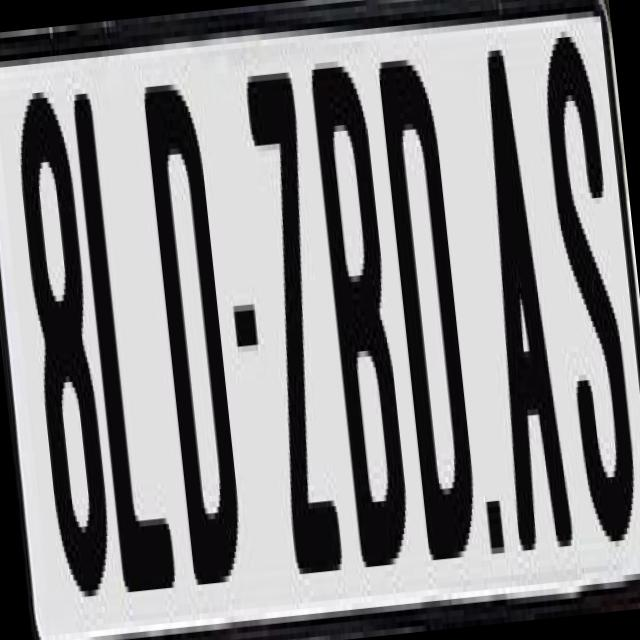8: (8, 84, 118, 598)
A: (465, 36, 579, 574)
B: (308, 52, 413, 556)
D: (378, 57, 487, 589), (142, 69, 252, 596)
L: (67, 72, 178, 604)
S: (538, 23, 640, 537)
Z: (243, 60, 354, 598)
